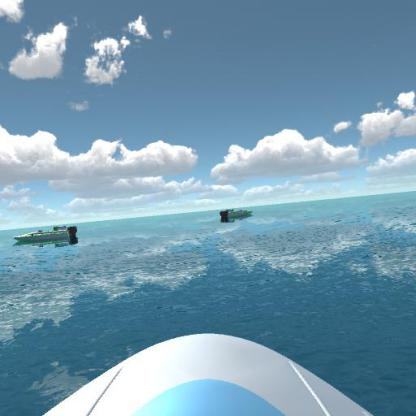usv0: (9, 220, 84, 249), (218, 201, 256, 222)
